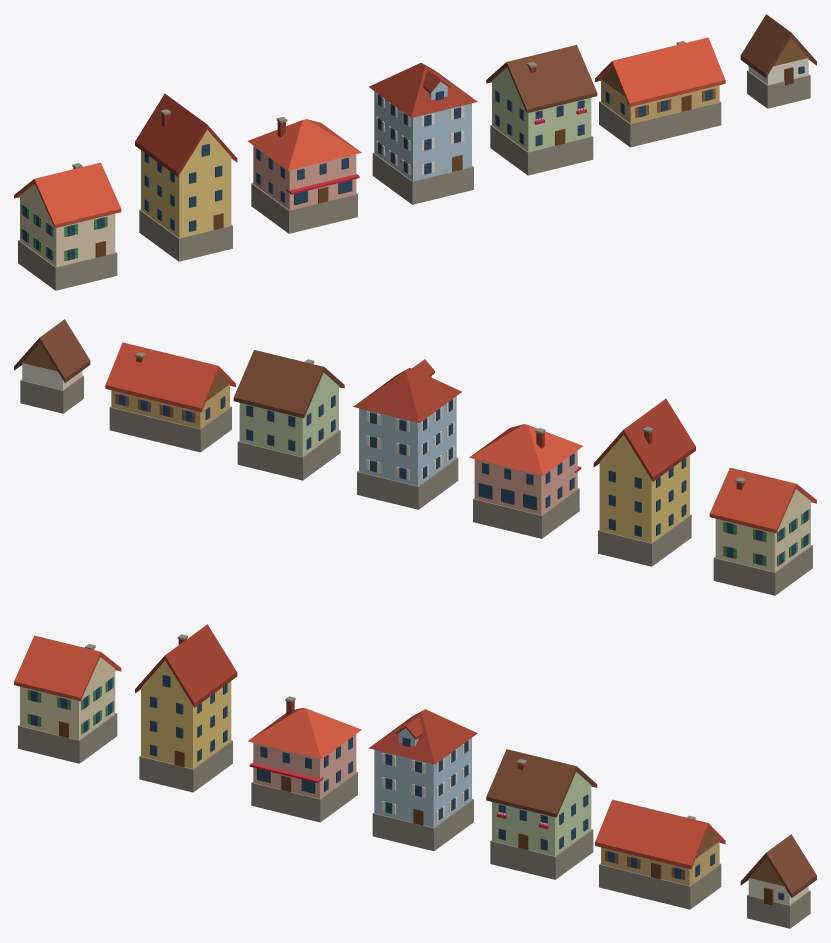
Rendered from houses.glb.
3 views of the same model, one above another, from view 1: azimuth 30°, elevation 25°; view 2: azimuth 150°, elevation 25°; view 3: azimuth 330°, elevation 25° (orthographic).
Parts seen in each view (by area): view 1: HouseB, HouseD, HouseE, HouseA, Farmhouse, HouseC, Zidanica; view 2: HouseB, HouseD, HouseE, HouseA, Farmhouse, HouseC, Zidanica; view 3: HouseB, HouseD, HouseE, HouseA, Farmhouse, HouseC, Zidanica.
Boxes of the visible parts, x1,y1,x2,y2 form: HouseB: [135, 93, 237, 261]; HouseD: [369, 63, 477, 204]; HouseE: [486, 45, 597, 175]; HouseA: [14, 162, 121, 290]; Farmhouse: [595, 37, 725, 147]; HouseC: [247, 117, 361, 233]; Zidanica: [740, 14, 816, 108]; HouseB: [593, 398, 695, 566]; HouseD: [353, 359, 461, 509]; HouseE: [233, 350, 344, 480]; HouseA: [709, 467, 816, 595]; Farmhouse: [105, 342, 235, 452]; HouseC: [469, 424, 583, 538]; Zidanica: [14, 319, 90, 413]; HouseB: [135, 624, 237, 792]; HouseD: [369, 709, 477, 851]; HouseE: [486, 749, 597, 879]; HouseA: [14, 635, 121, 763]; Farmhouse: [595, 799, 725, 909]; HouseC: [248, 696, 361, 822]; Zidanica: [740, 834, 816, 928].
Size of the model in its own units: 104 by 16.98 by 10.
